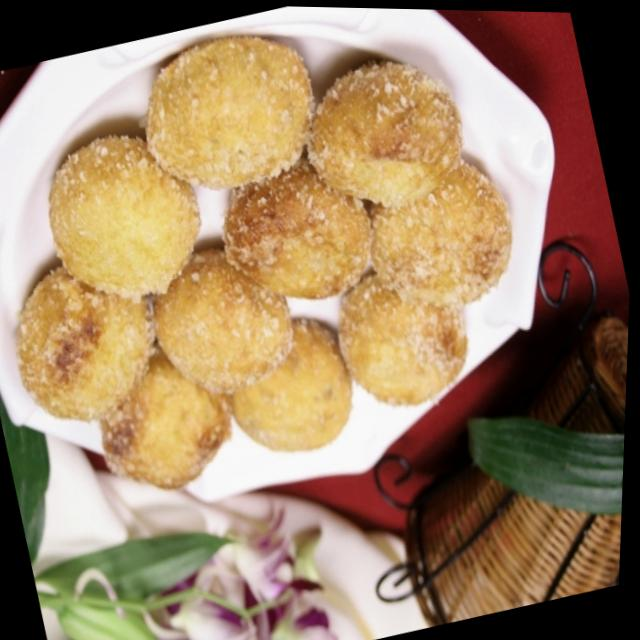炸货点心: (0, 0, 611, 562)
蛋糕甜品: (0, 0, 611, 562)
